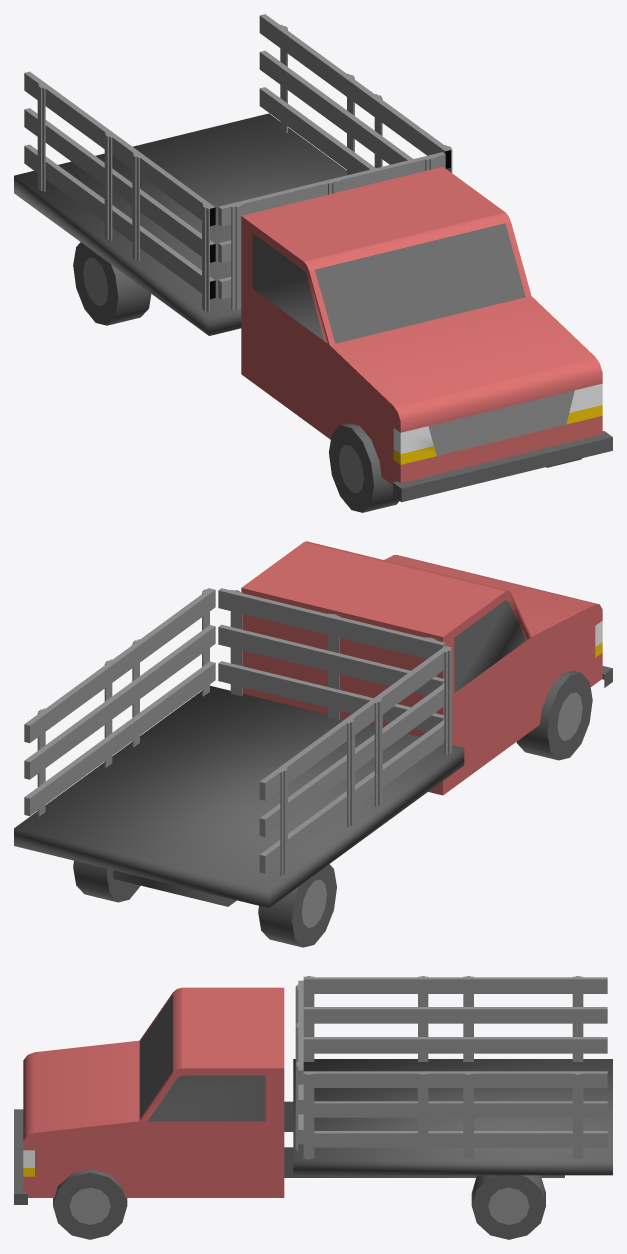
File: Truck_B.fbx
The picture shows the model from 3 angles, top to bottom: view 1: azimuth 30°, elevation 25°; view 2: azimuth 150°, elevation 25°; view 3: azimuth 270°, elevation 25°; orthographic projection. The views are drawn at different scales.
Visible parts, largest first — view 1: Truck_B; view 2: Truck_B; view 3: Truck_B.
Part boxes in pixels (x1=…): Truck_B: x1=14, y1=14, x2=612, y2=512; Truck_B: x1=14, y1=541, x2=612, y2=947; Truck_B: x1=14, y1=976, x2=612, y2=1239.
Size of the model in its own units: 182 by 142 by 452.
